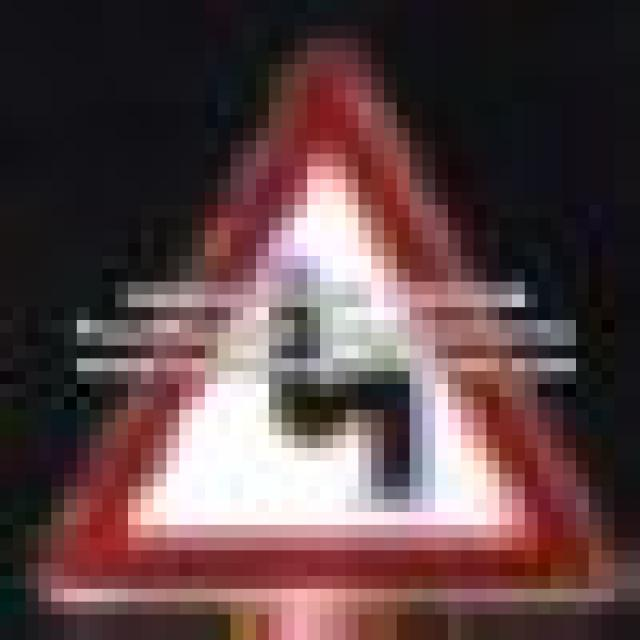LEFT_REVERSE_BEND: (26, 26, 627, 602)
